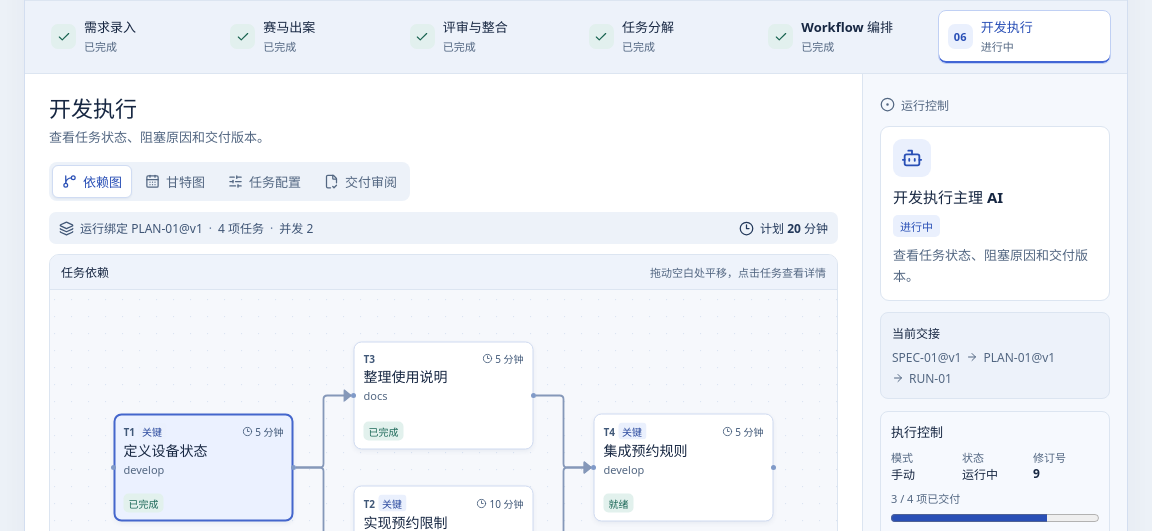
Scenario: 工作台 › 切换编排视图并展开示例活动记录
Step 1. Click the button "甘特图" → (175,182), box [135,165,215,198]
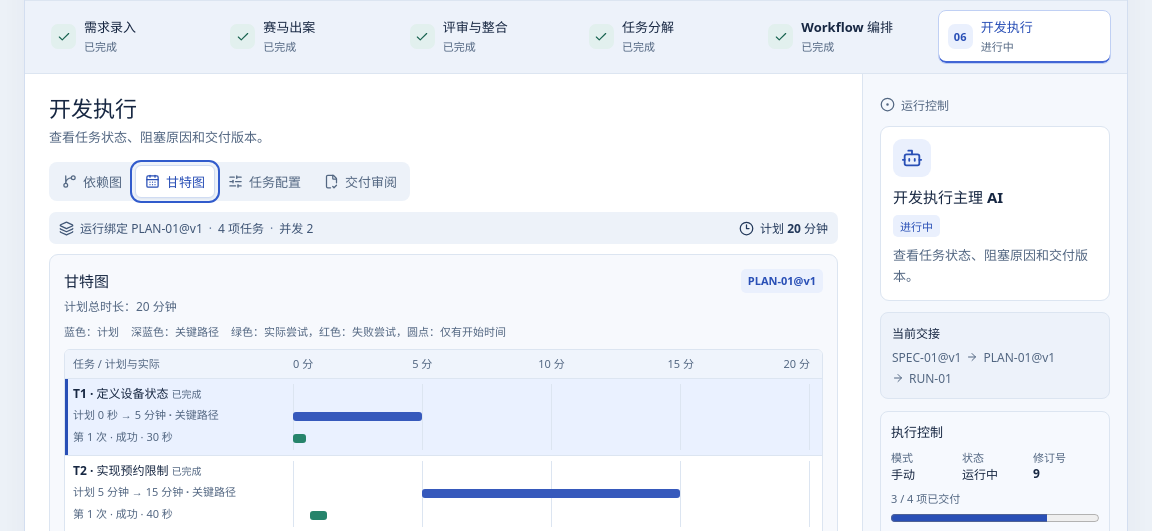
expect the heading "甘特图" is shown: met, box [64,269,109,293]
Step 2. Click the button "依赖图" → (92,182), box [52,165,132,198]
(page scrolled)
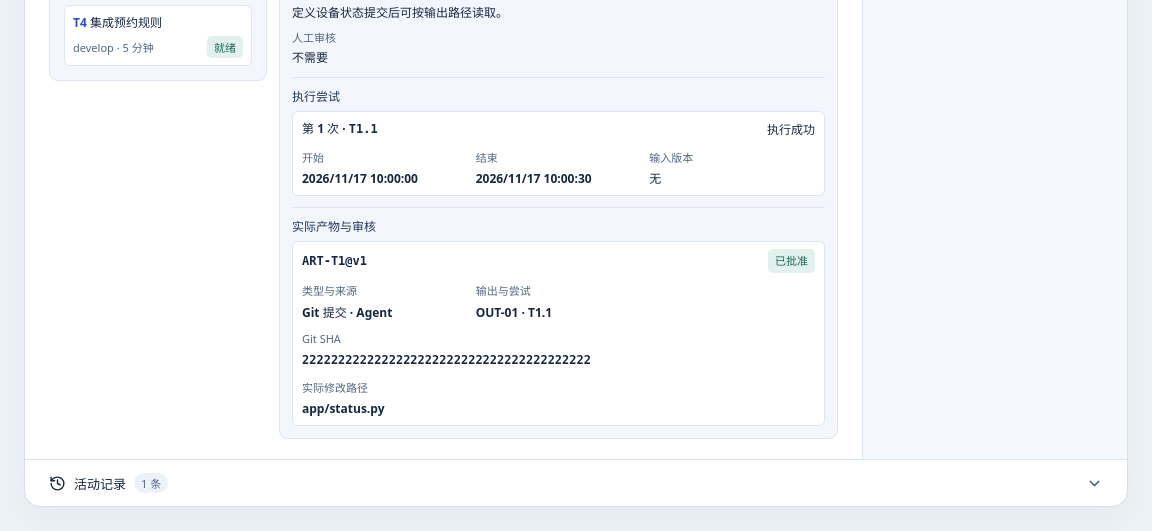
Step 3. Click the heading "活动记录 1 条" → (100,484), box [49,473,1103,493]
(page scrolled)
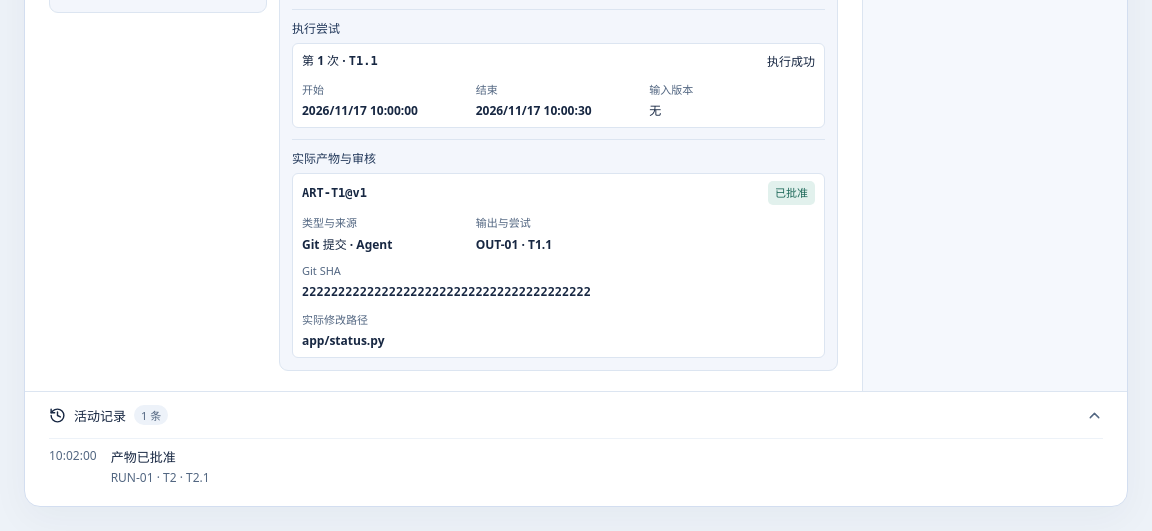
expect the text "产物已批准" is shown: met, box [111,448,176,466]
expect the text "RUN-01 · T2 · T2.1" is shown: met, box [111,469,210,486]
